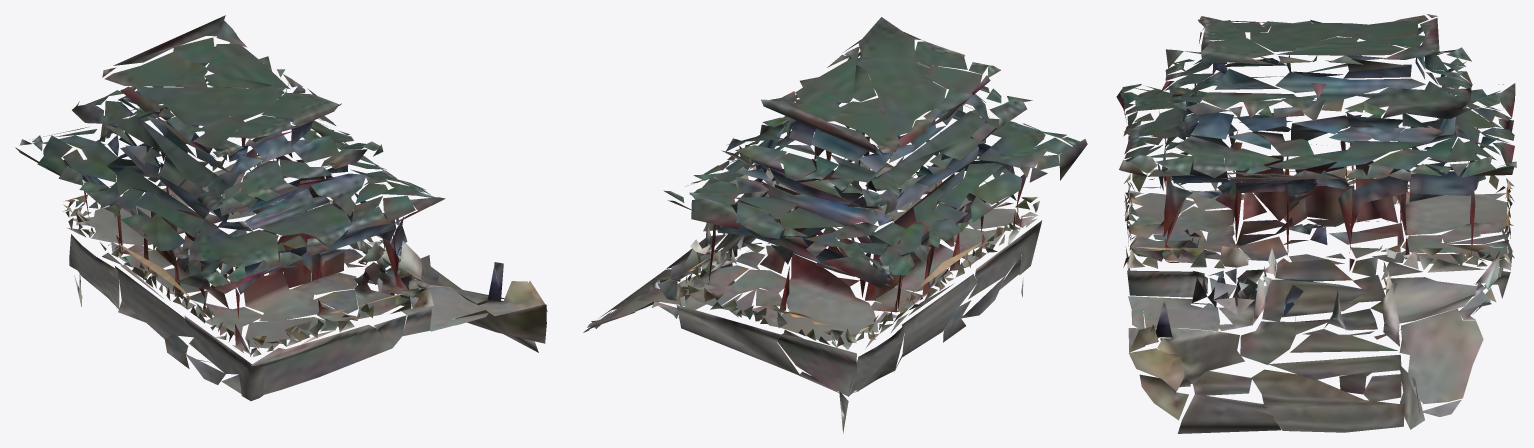
The model's file is preview.glb.
The picture shows the model from 3 angles, left to right: view 1: azimuth 30°, elevation 25°; view 2: azimuth 150°, elevation 25°; view 3: azimuth 270°, elevation 25°; orthographic projection. The views are drawn at different scales.
Visible parts, largest first — view 1: jingshan/tripo_node_e66255a2-1b88-4f2d-9384-10e72090710b; view 2: jingshan/tripo_node_e66255a2-1b88-4f2d-9384-10e72090710b; view 3: jingshan/tripo_node_e66255a2-1b88-4f2d-9384-10e72090710b.
Part boxes in pixels (x1,y1,x2,y2): jingshan/tripo_node_e66255a2-1b88-4f2d-9384-10e72090710b: (15,15,547,400); jingshan/tripo_node_e66255a2-1b88-4f2d-9384-10e72090710b: (583,17,1087,433); jingshan/tripo_node_e66255a2-1b88-4f2d-9384-10e72090710b: (1116,14,1516,433).
Bounding box in the file's own units: 0.3108 × 0.2367 × 0.295.
1 material, 1 textured.
